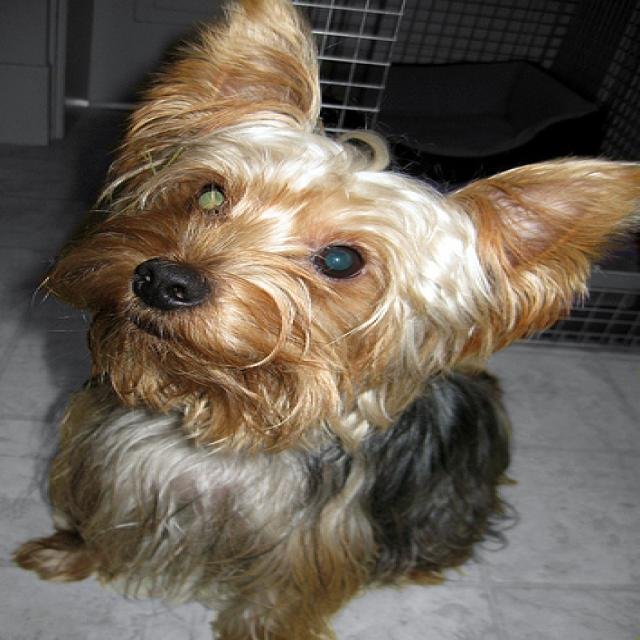dog-yorkshire_terrier: (2, 1, 636, 637)
